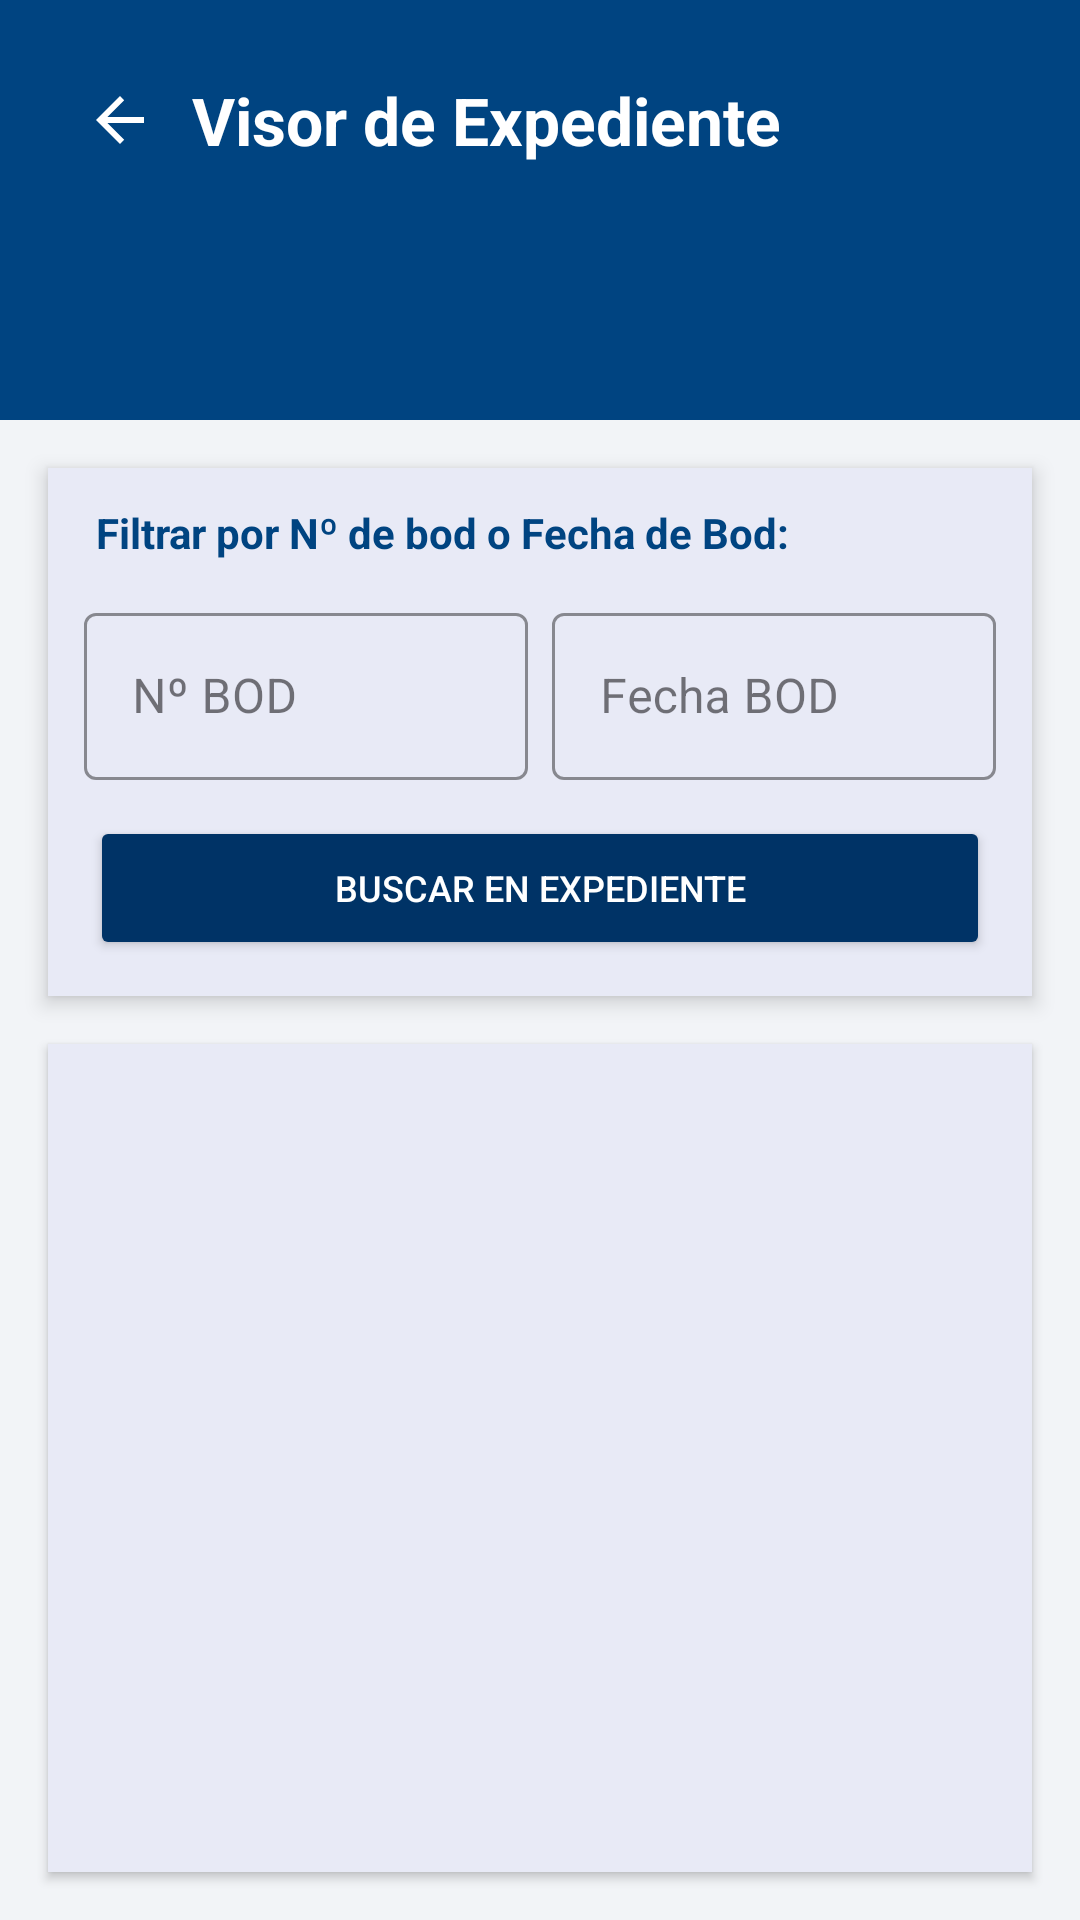

Icon bounding boxes for this 1080x1920 phone screenshot, format [x1,y1,x2,y2]:
Volver: [96,96,144,144]
